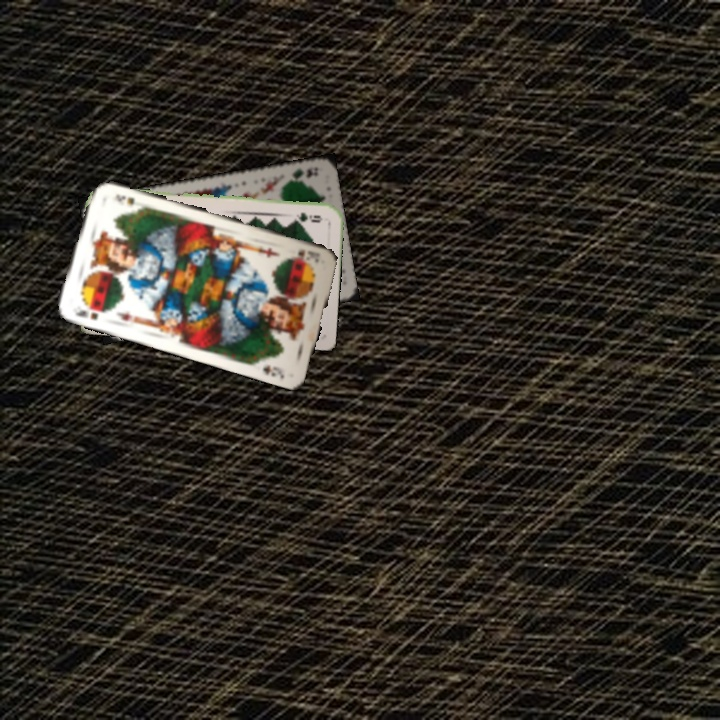G9: (290, 208, 325, 224)
GK: (282, 163, 321, 185)
SK: (72, 303, 109, 323), (287, 246, 321, 266)
